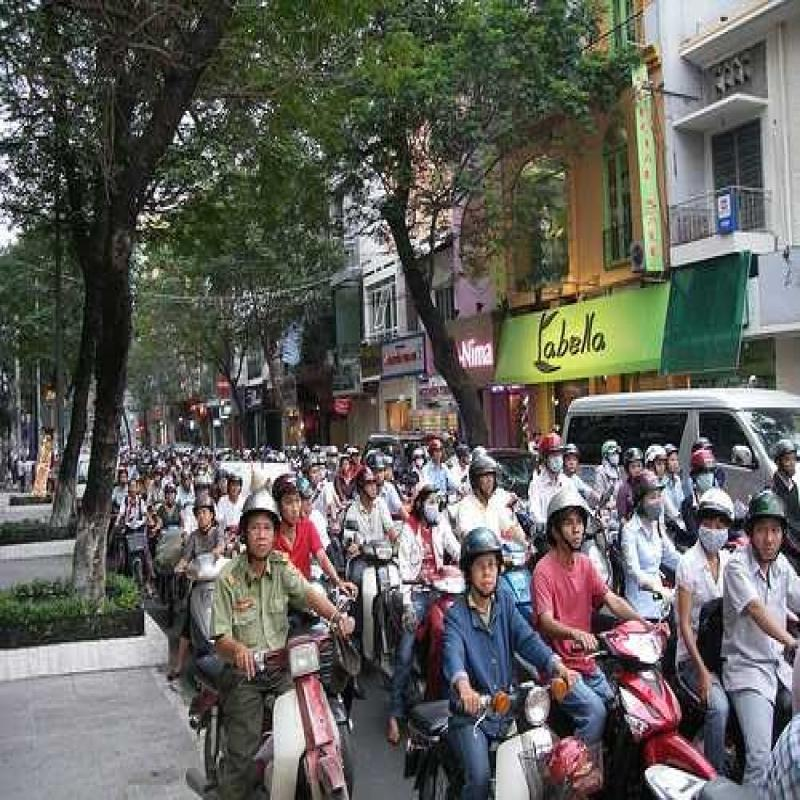bike: (227, 606, 371, 796), (599, 622, 709, 792), (503, 674, 588, 800)
